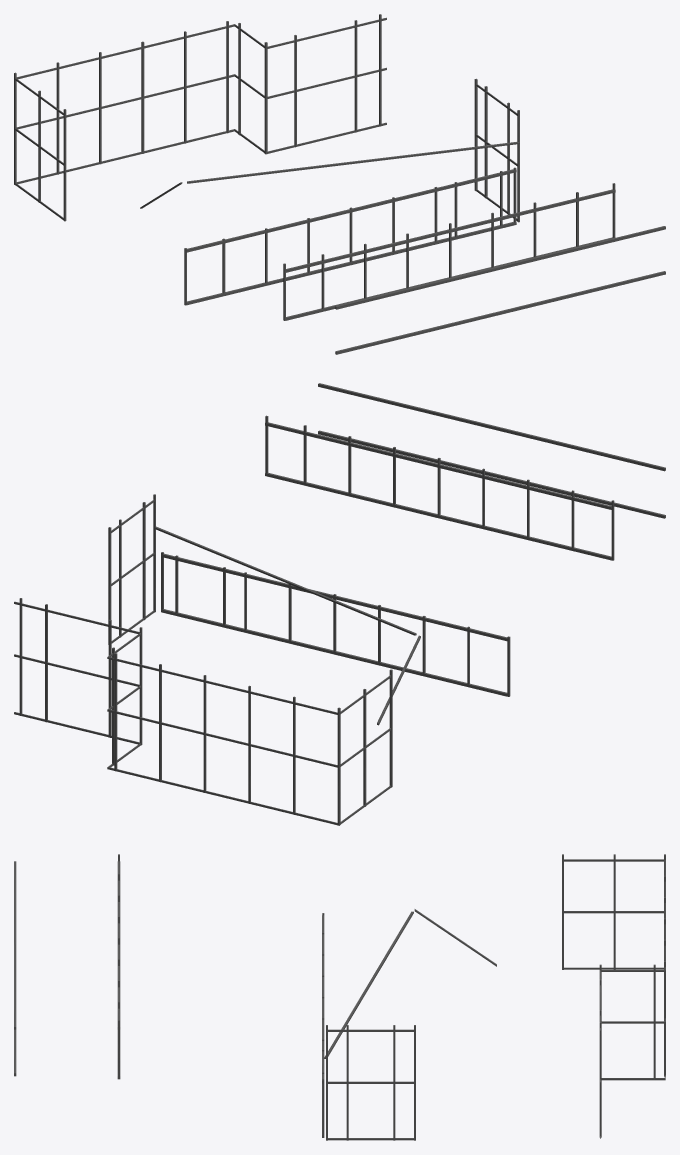
File: SM_Metal_Frame.glb
The picture shows the model from 3 angles, top to bottom: view 1: azimuth 30°, elevation 25°; view 2: azimuth 150°, elevation 25°; view 3: azimuth 270°, elevation 25°; orthographic projection. The views are drawn at different scales.
Parts seen in each view (by area): view 1: SM_Metal_Frame; view 2: SM_Metal_Frame; view 3: SM_Metal_Frame.
Boxes of the visible parts, x1,y1,x2,y2 form: SM_Metal_Frame: [14, 14, 665, 354]; SM_Metal_Frame: [14, 383, 665, 825]; SM_Metal_Frame: [14, 854, 665, 1140].
Size of the model in its own units: 1638 by 522 by 2632.
Materials: 1 (1 with a texture image).
